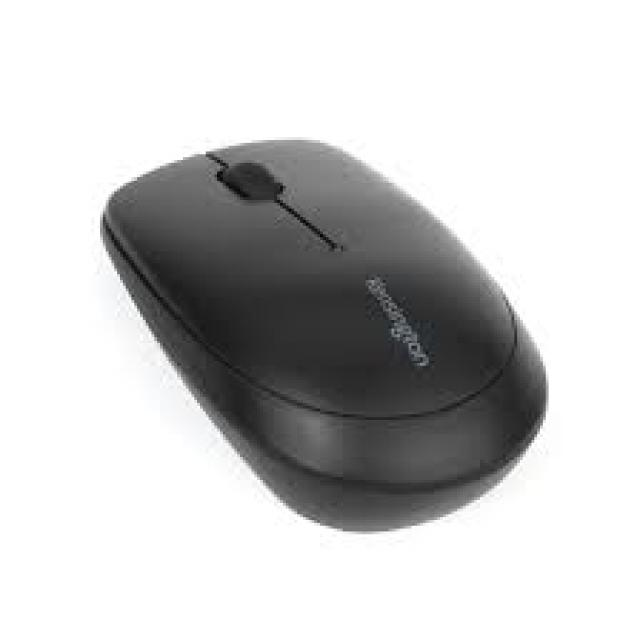others: (57, 126, 634, 540)
